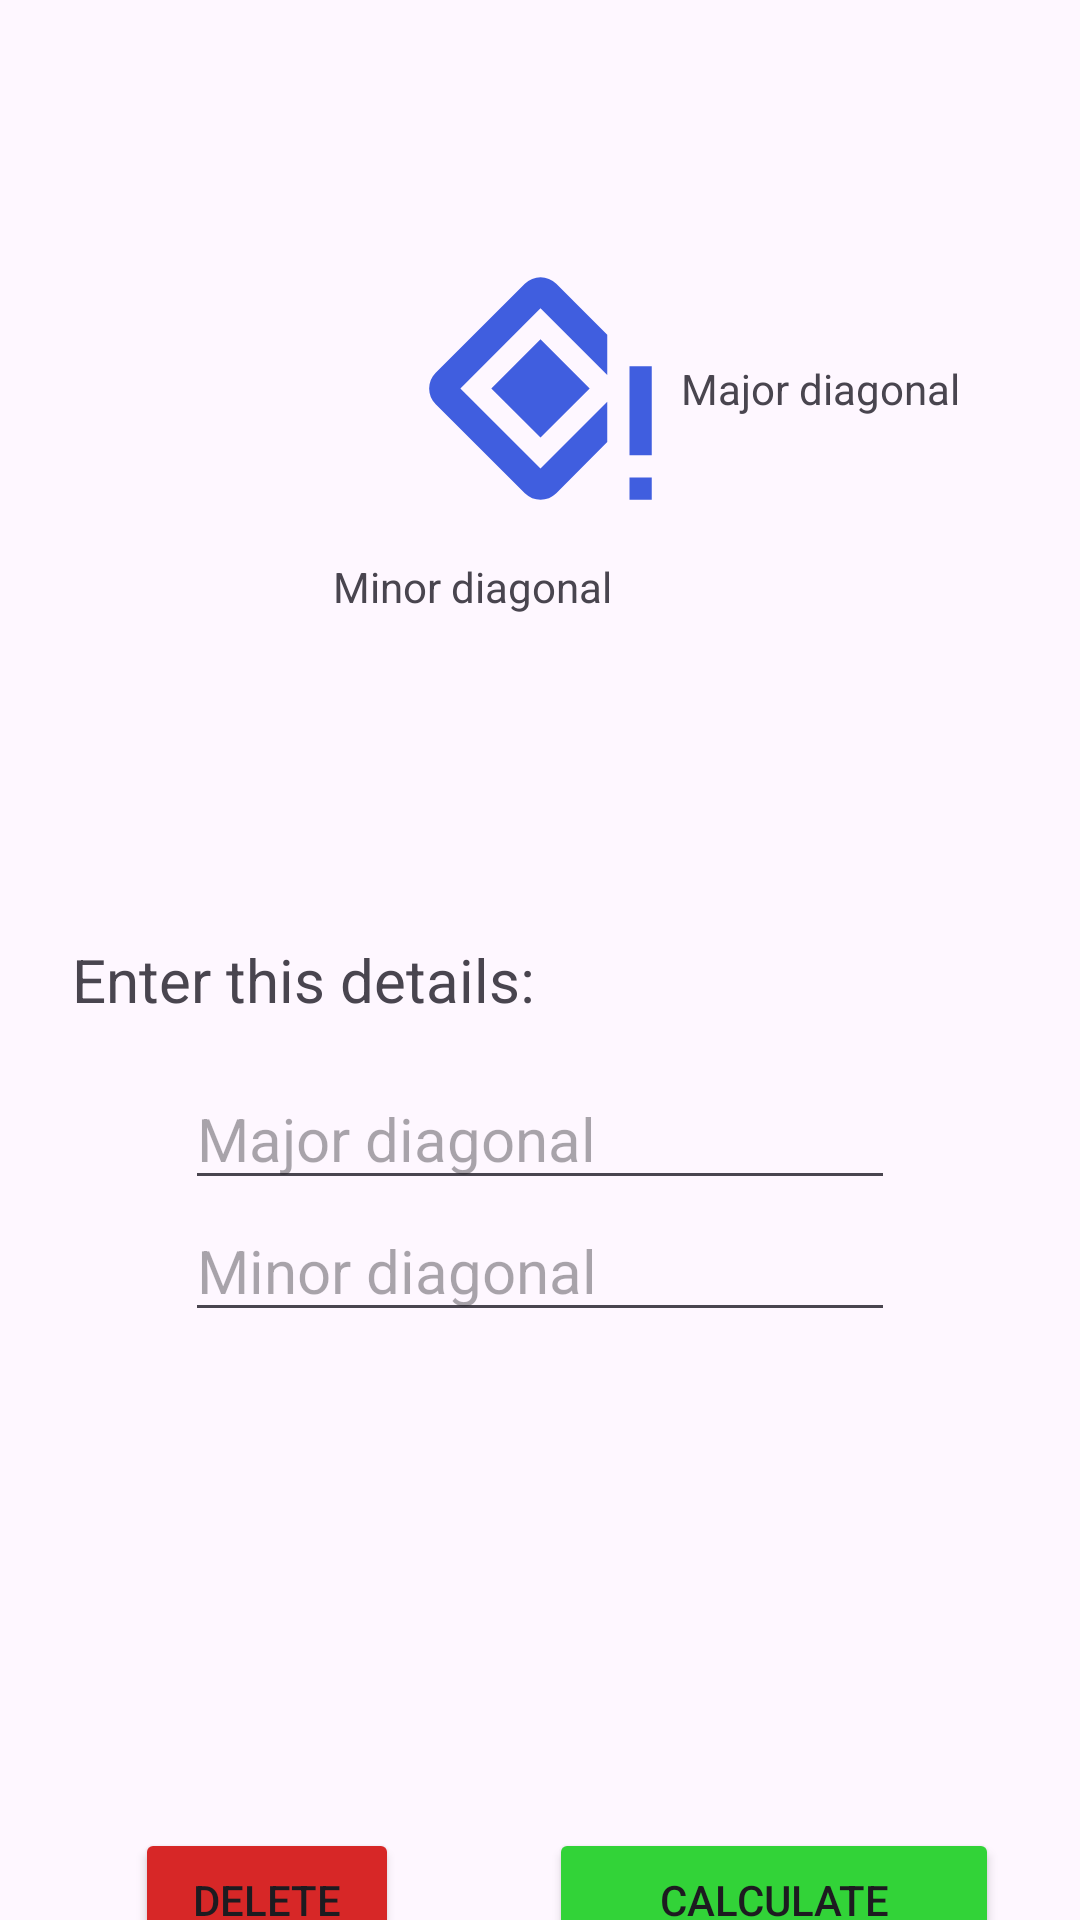

Icons on this 1080w x 1920h Android screen, each with its box as (x1, y1, x2, y2):
nearby error: (429, 277, 652, 500)
